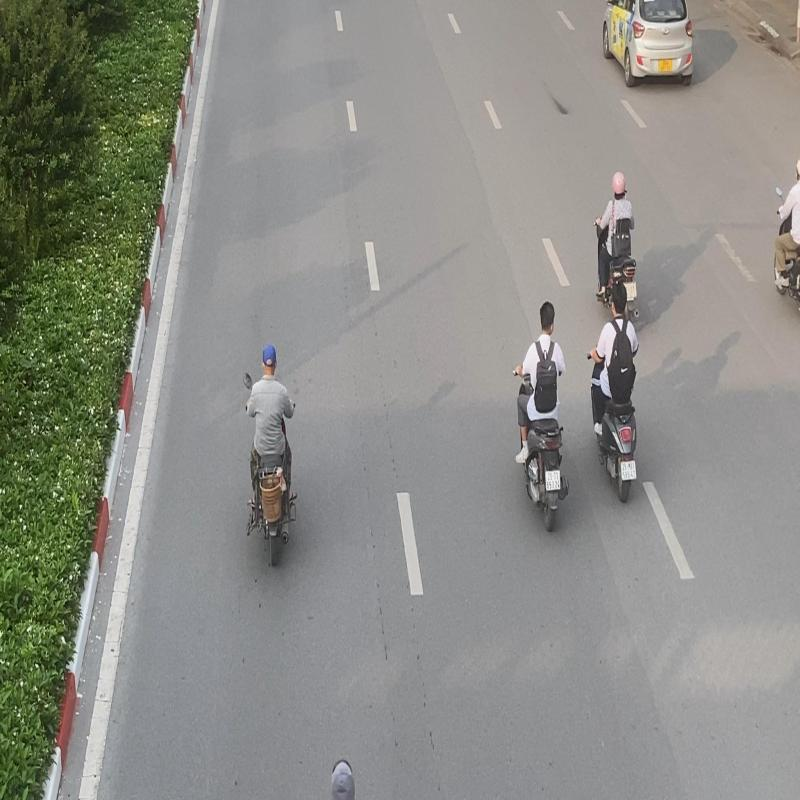licenseplate: (545, 470, 561, 491), (621, 461, 637, 482)
motorcyclist: (512, 299, 572, 532), (243, 343, 298, 567), (588, 284, 640, 507)
nohelmet: (539, 302, 555, 336), (610, 282, 626, 316), (262, 344, 278, 376)
